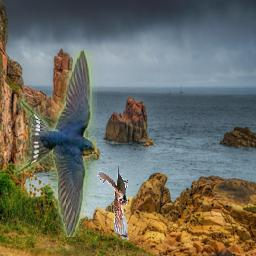Sparrow: (96, 165, 128, 236)
Swallow: (15, 51, 98, 238)
